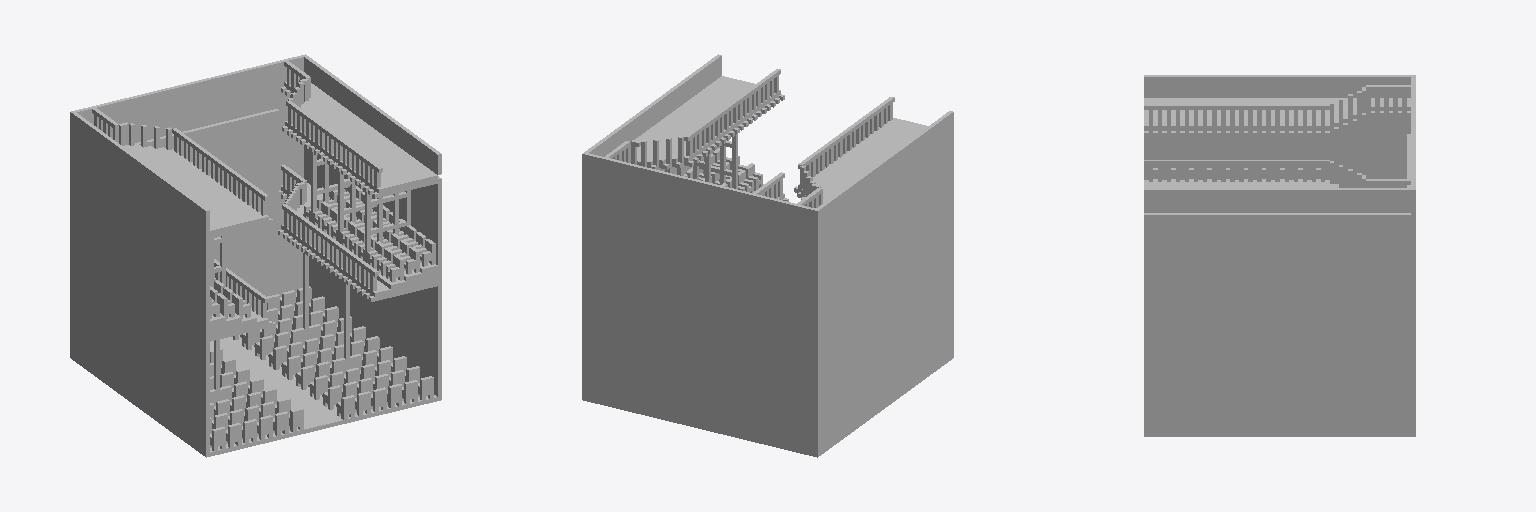
File: el madrileño.obj
3 views of the same model, side by side, from view 1: azimuth 30°, elevation 25°; view 2: azimuth 150°, elevation 25°; view 3: azimuth 270°, elevation 25° (orthographic).
Parts seen in each view (by area): view 1: object 1; view 2: object 1; view 3: object 1.
Boxes of the visible parts, box(x1,y1,x2,y2) form: object 1: box(70, 54, 441, 457); object 1: box(582, 54, 953, 457); object 1: box(1144, 75, 1415, 436).
Size of the model in its own units: 6 by 6 by 6.